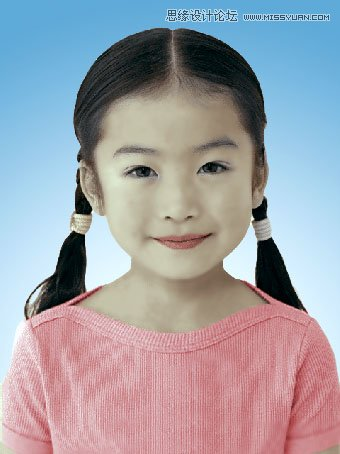unmask: (95, 109, 259, 267)
